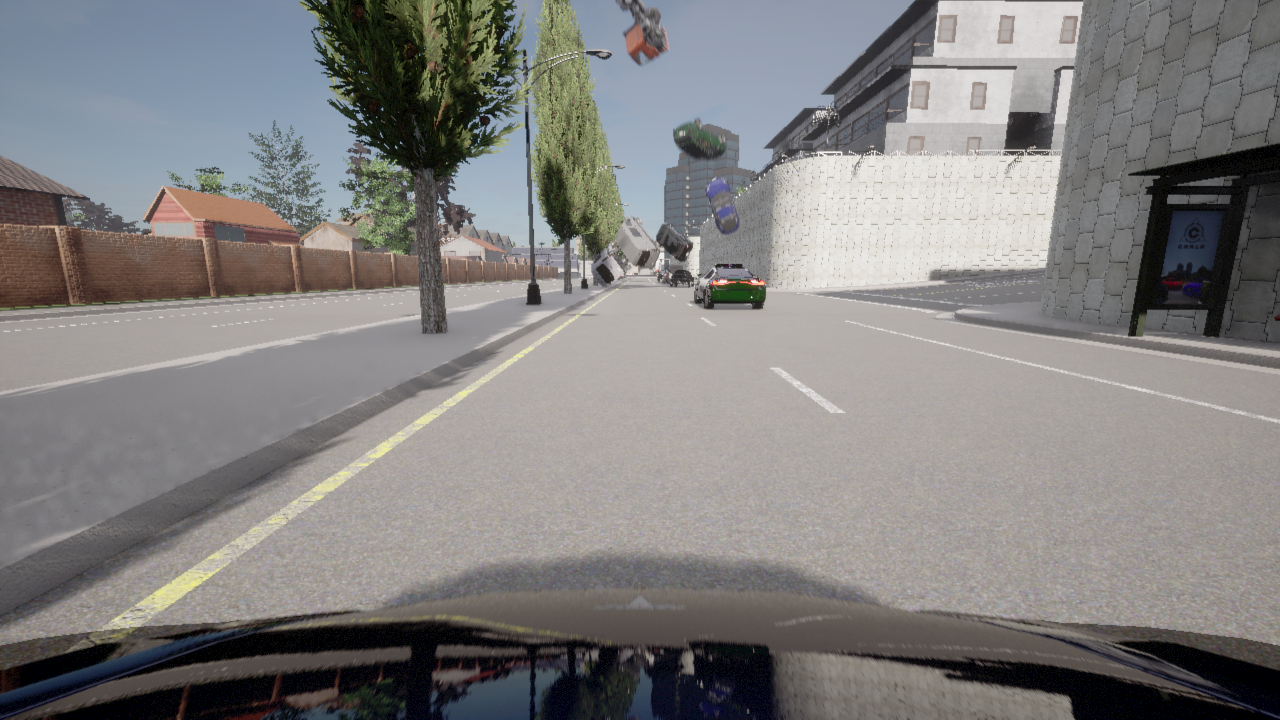cyclist: (0, 588, 1279, 719), (614, 0, 668, 65), (694, 264, 766, 308), (616, 216, 660, 268), (673, 118, 726, 160), (705, 177, 739, 234), (591, 241, 631, 286), (656, 223, 693, 261), (670, 270, 695, 286), (666, 265, 683, 283), (657, 269, 665, 281), (662, 270, 668, 282), (632, 273, 634, 274)
